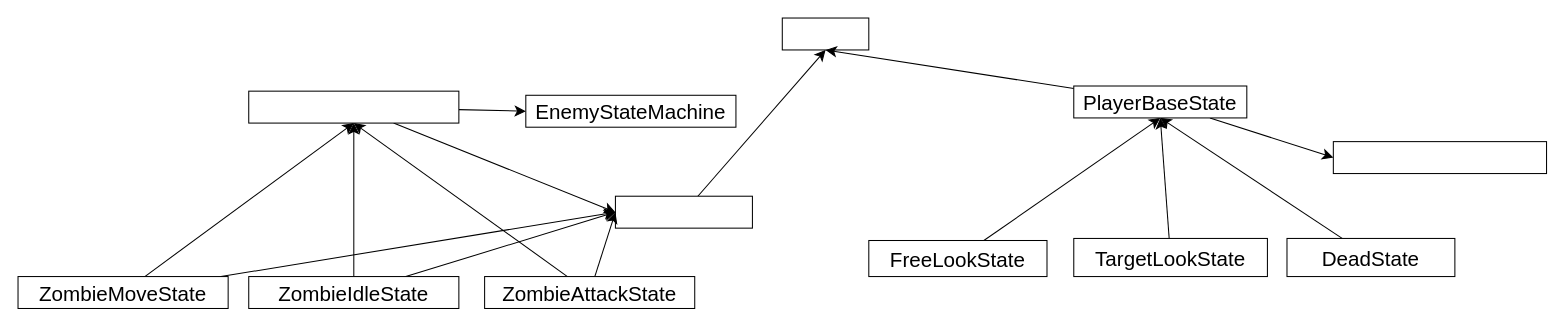
Some shapes in this 1565 by 327 pixel diagram are drawn without their labels. The centre of each missing label's shape, as x and y in pixels:
EnemyState: [683,211]
PlayerStateMachine: [1439,157]
State: [825,33]
Zombie: [353,106]
